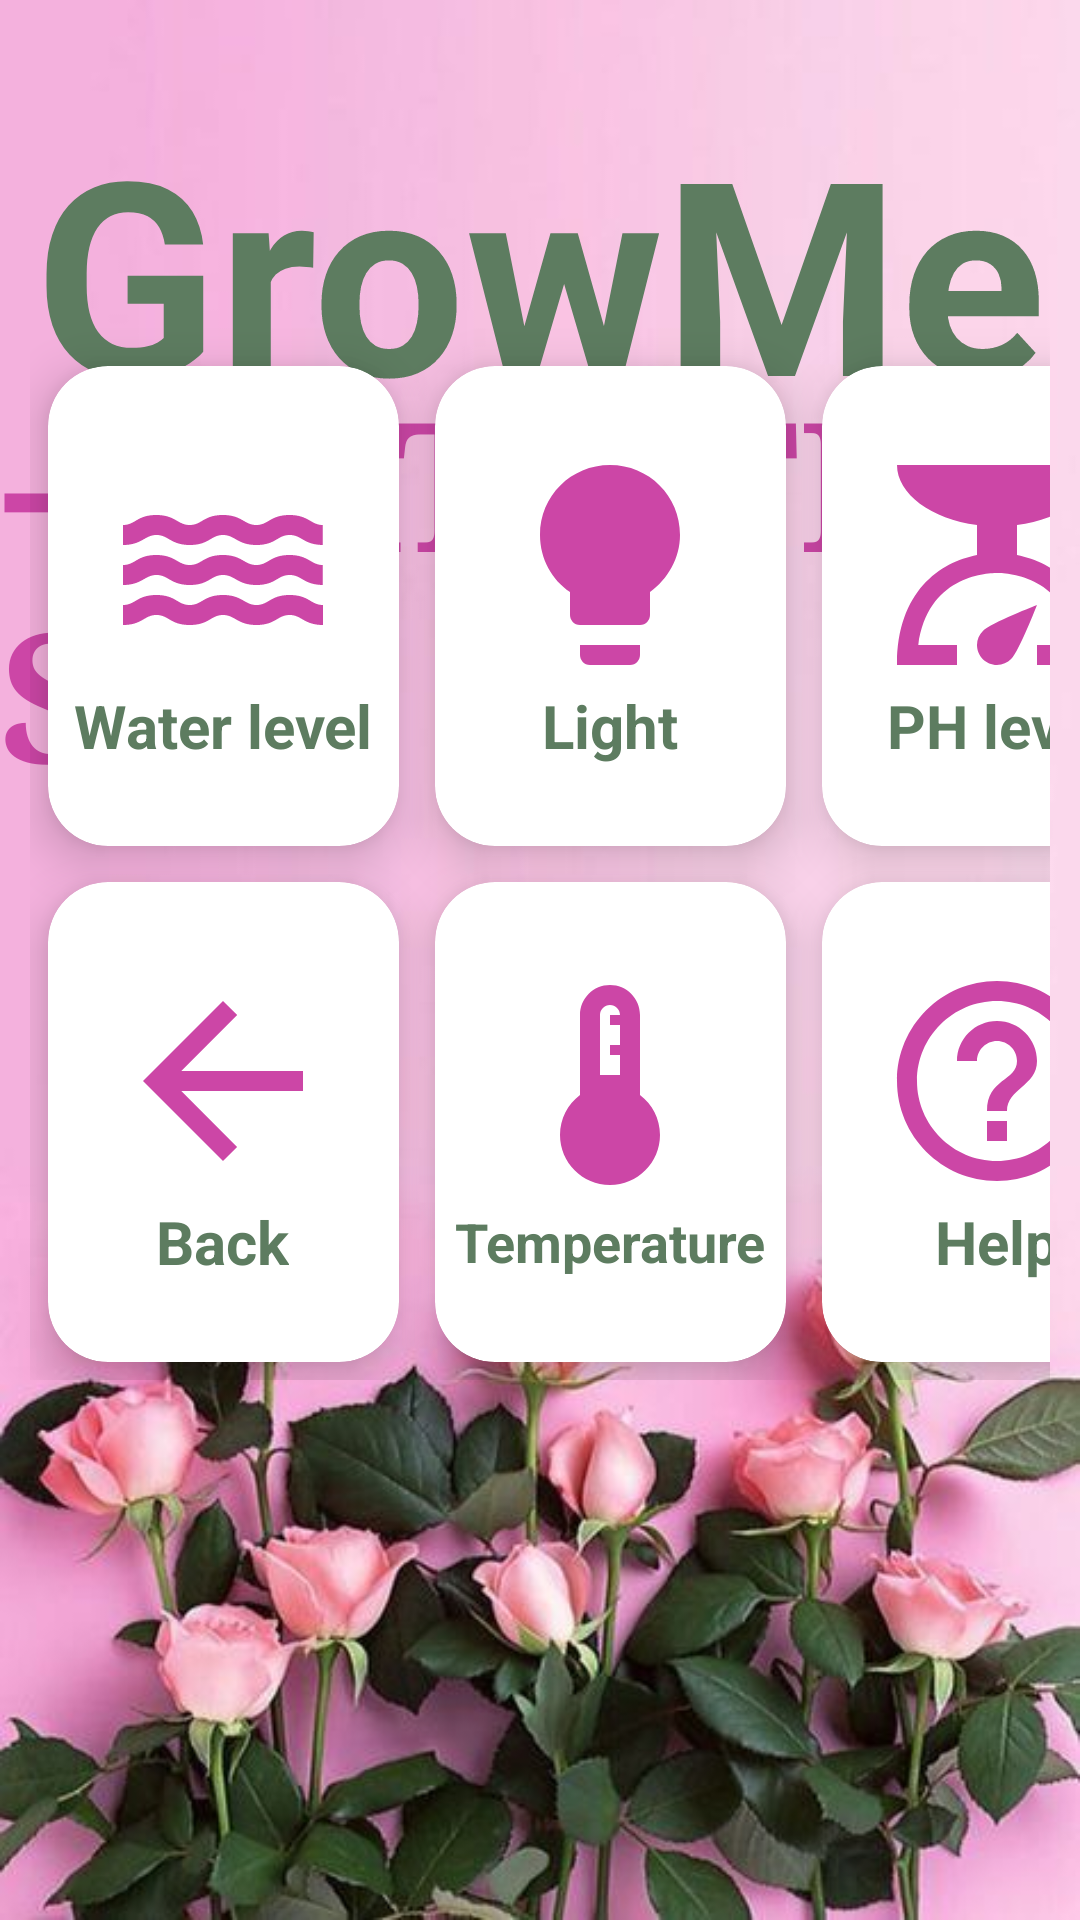

Icons on this 1080 × 1920 Android screen, each with the point to tap as [x,y]:
device thermostat: [610,1085]
